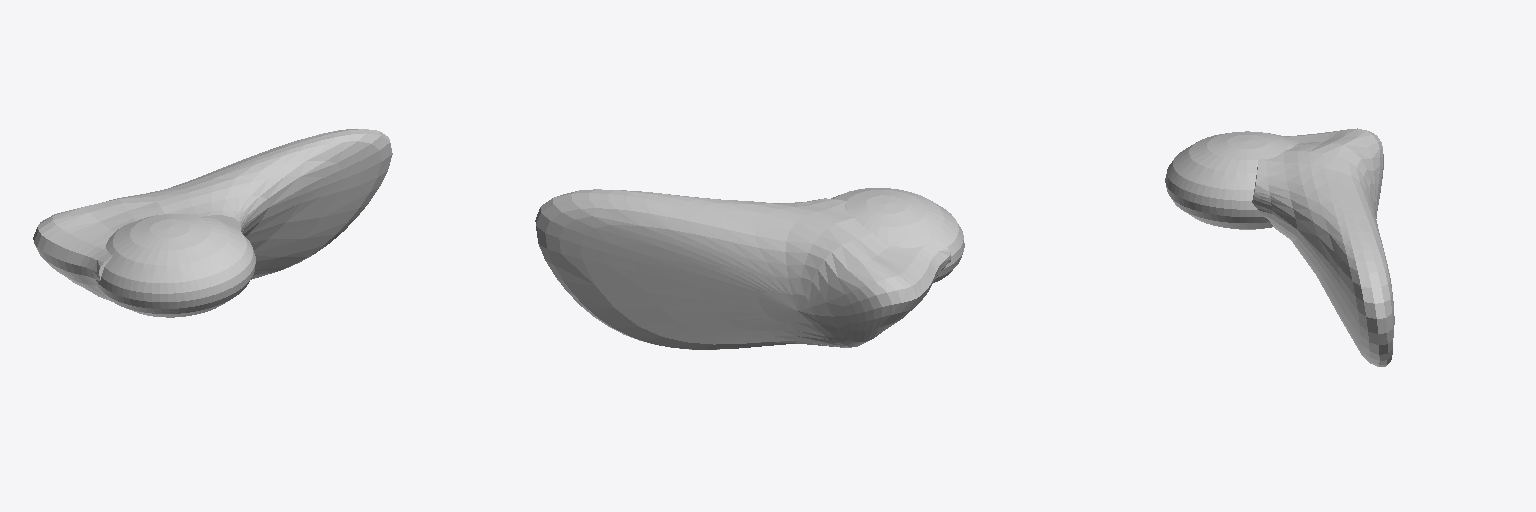
Rendered from R_LEG_FOOT.obj.
3 renders of one model, left to right at view 1: azimuth 30°, elevation 25°; view 2: azimuth 150°, elevation 25°; view 3: azimuth 270°, elevation 25°, orthographic.
Size of the model in its own units: 0.2723 by 0.0937 by 0.147.